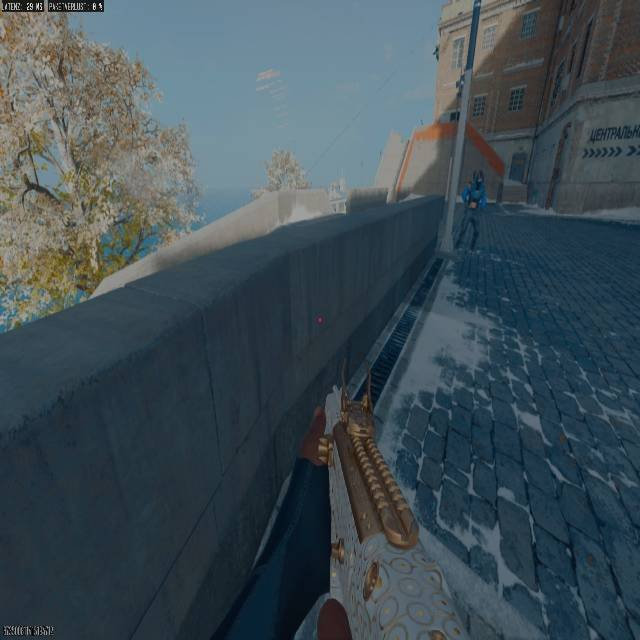head: (472, 169, 483, 185)
player: (452, 169, 488, 252)
